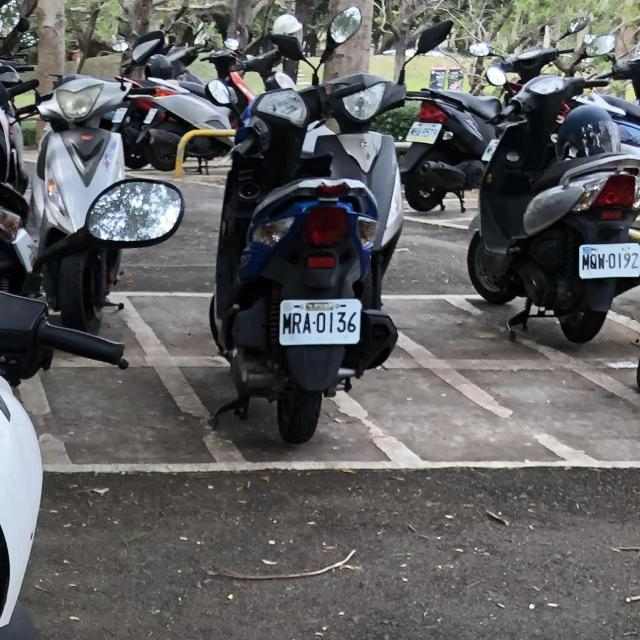W: (274, 292, 365, 352), (573, 237, 640, 284)
